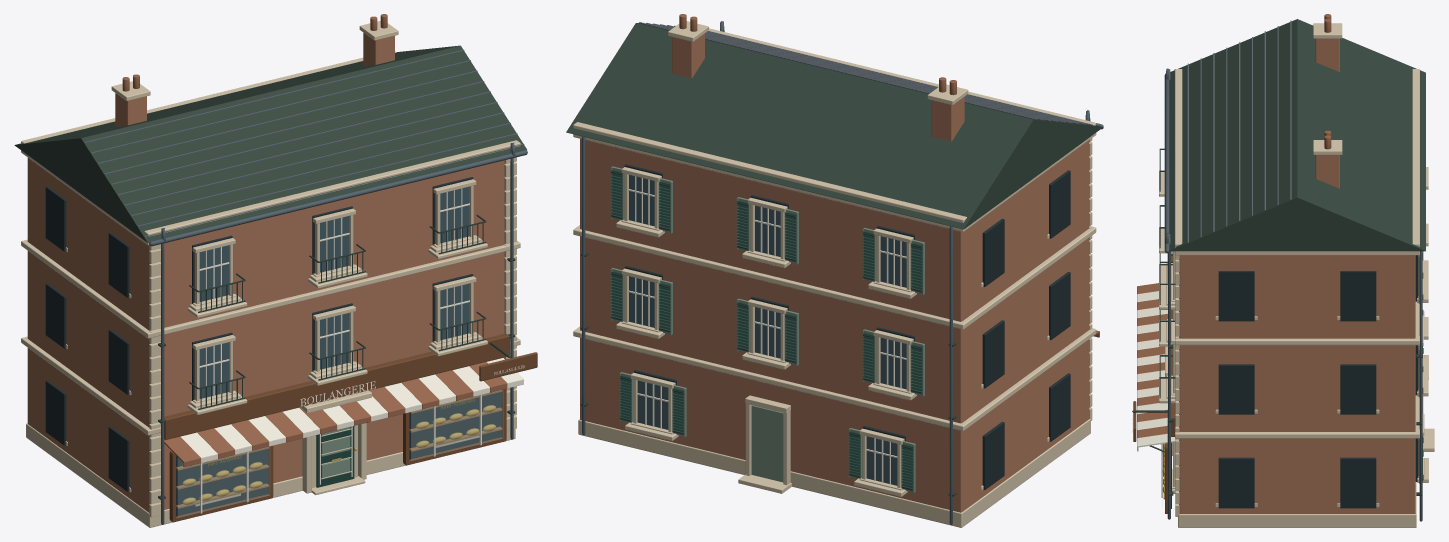
The model's file is brick_bakery.glb.
The picture shows the model from 3 angles, left to right: view 1: azimuth 30°, elevation 25°; view 2: azimuth 150°, elevation 25°; view 3: azimuth 270°, elevation 25°; orthographic projection. The views are drawn at different scales.
Visible parts, largest first — view 1: Building_masonry, Pitched_slate_roof, Shop_fascia, Display_glass.001, Display_glass, Continuous_cornice.003, Continuous_cornice.001, Stone_plinth, Shop_display_recess, Shop_display_recess.001, Zinc_gutter, Window_glass.006 (+27 smaller); view 2: Building_masonry, Pitched_slate_roof, Stone_plinth, Continuous_cornice.001, Continuous_cornice, Continuous_cornice.003, Garden_entry_door, Continuous_cornice.002, Window_recess.019, Window_recess.017, Window_recess.021, Window_recess.020 (+15 smaller); view 3: Building_masonry, Pitched_slate_roof, Stone_plinth, Continuous_cornice.003, Continuous_cornice.001, Window_recess.022, Window_recess.023, Continuous_cornice, Window_recess.024, Window_recess.025, Window_recess.026, Window_recess.027 (+16 smaller).
Part boxes in pixels (left/top/right/bottom): Building_masonry: left=27, top=158, right=505, bottom=512; Pitched_slate_roof: left=14, top=45, right=526, bottom=242; Shop_fascia: left=164, top=333, right=509, bottom=439; Display_glass.001: left=411, top=390, right=503, bottom=460; Display_glass: left=178, top=447, right=269, bottom=517; Continuous_cornice.003: left=21, top=51, right=520, bottom=236; Continuous_cornice.001: left=21, top=239, right=520, bottom=338; Stone_plinth: left=26, top=423, right=515, bottom=527; Shop_display_recess: left=176, top=449, right=268, bottom=516; Shop_display_recess.001: left=409, top=392, right=501, bottom=459; Zinc_gutter: left=149, top=150, right=527, bottom=246; Window_glass.006: left=440, top=283, right=469, bottom=340; Building_masonry: left=580, top=139, right=1089, bottom=512; Pitched_slate_roof: left=566, top=23, right=1102, bottom=229; Stone_plinth: left=578, top=419, right=1090, bottom=527; Continuous_cornice.001: left=573, top=225, right=1096, bottom=329; Continuous_cornice: left=573, top=326, right=1096, bottom=431; Continuous_cornice.003: left=573, top=28, right=1096, bottom=222; Garden_entry_door: left=751, top=405, right=783, bottom=482; Continuous_cornice.002: left=573, top=133, right=1096, bottom=231; Window_recess.019: left=982, top=320, right=1004, bottom=388; Window_recess.017: left=982, top=421, right=1004, bottom=489; Window_recess.021: left=982, top=218, right=1004, bottom=286; Window_recess.020: left=1049, top=170, right=1070, bottom=238; Building_masonry: left=1179, top=255, right=1415, bottom=513; Pitched_slate_roof: left=1169, top=19, right=1425, bottom=251; Stone_plinth: left=1178, top=482, right=1416, bottom=527; Continuous_cornice.003: left=1175, top=69, right=1419, bottom=246; Continuous_cornice.001: left=1175, top=301, right=1419, bottom=345; Window_recess.022: left=1340, top=457, right=1376, bottom=508; Window_recess.023: left=1218, top=457, right=1254, bottom=508; Continuous_cornice: left=1175, top=395, right=1419, bottom=438; Window_recess.024: left=1340, top=364, right=1376, bottom=414; Window_recess.025: left=1218, top=364, right=1254, bottom=414; Window_recess.026: left=1340, top=271, right=1376, bottom=321; Window_recess.027: left=1218, top=271, right=1254, bottom=321.
Bounding box in the file's own units: 12.5 × 11.95 × 8.94.
